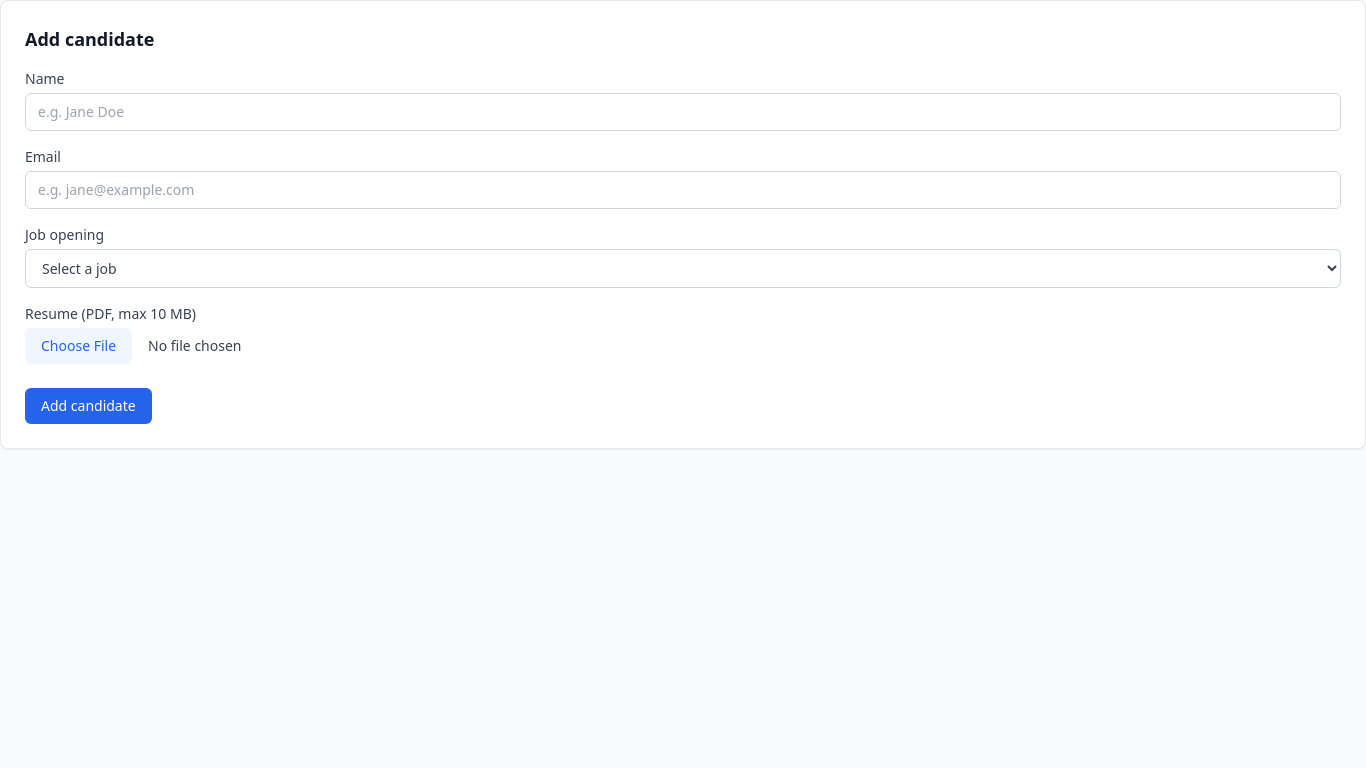
Scenario: AddCandidateForm › shows validation errors for empty fields
Click the button "Add candidate": (88, 406) [25,388,152,424]
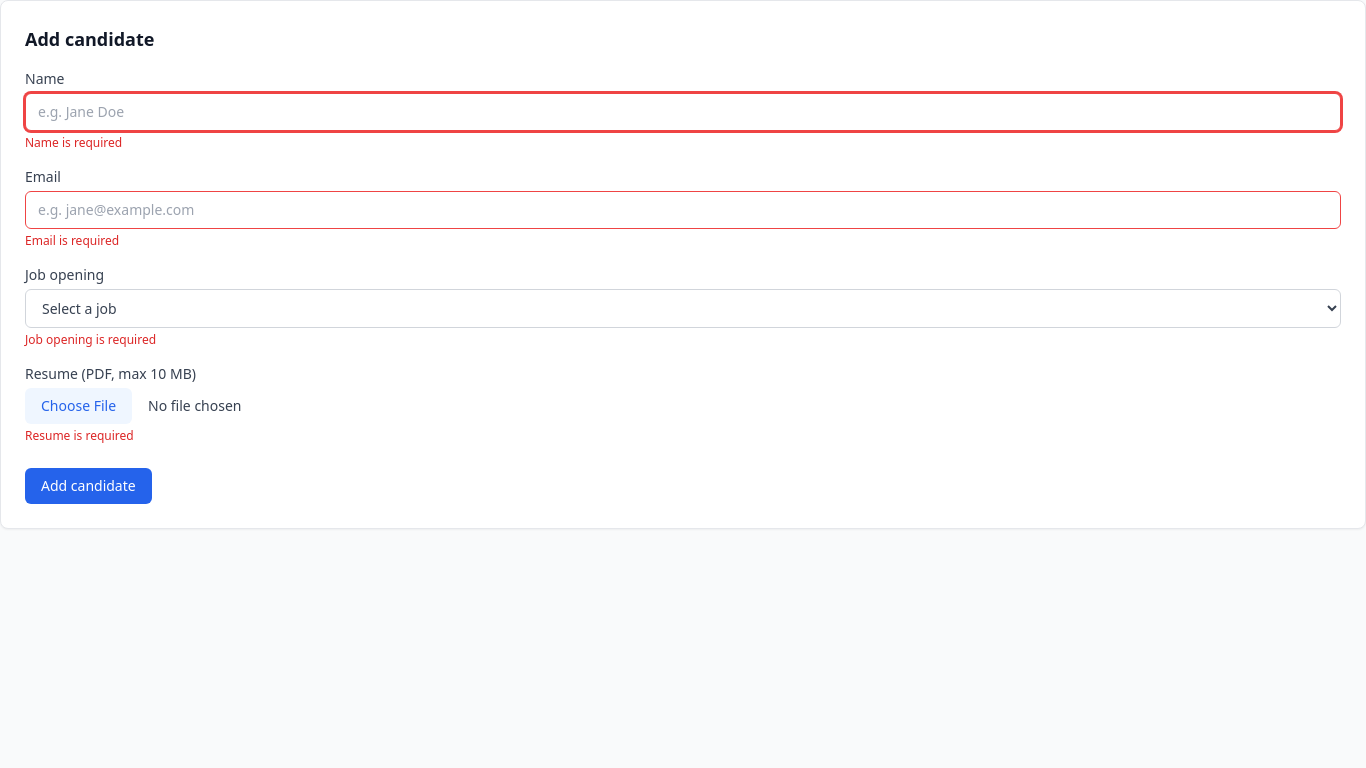
Expected: the text "Name is required" is shown, [25,134,122,151]
Expected: the text "Email is required" is shown, [25,232,119,249]
Expected: the text "Job opening is required" is shown, [25,331,156,348]
